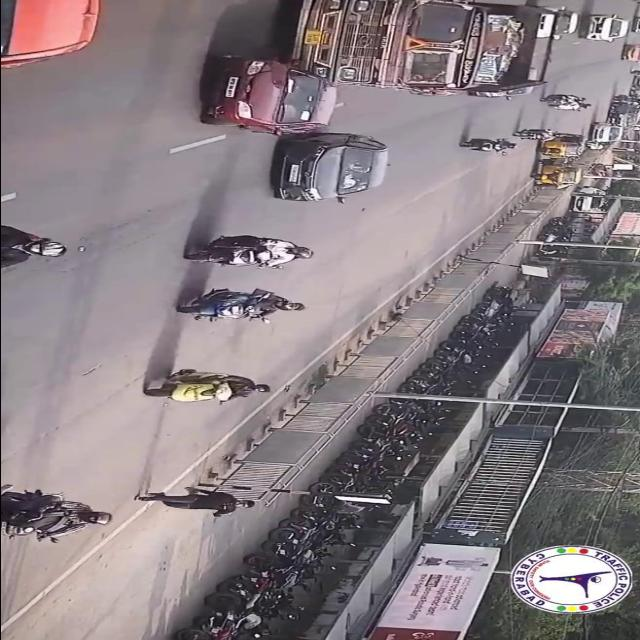accident: (189, 0, 561, 134)
non_accident: (587, 97, 640, 153), (538, 90, 594, 114)
